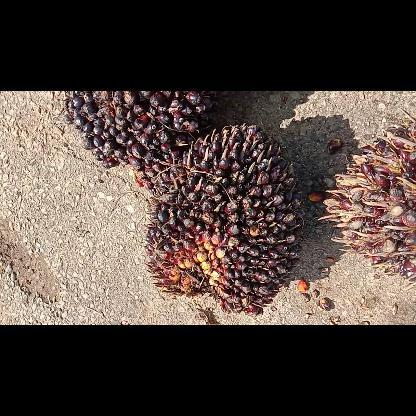TBS mentah: (144, 122, 300, 318), (318, 107, 414, 289), (63, 91, 208, 190)
